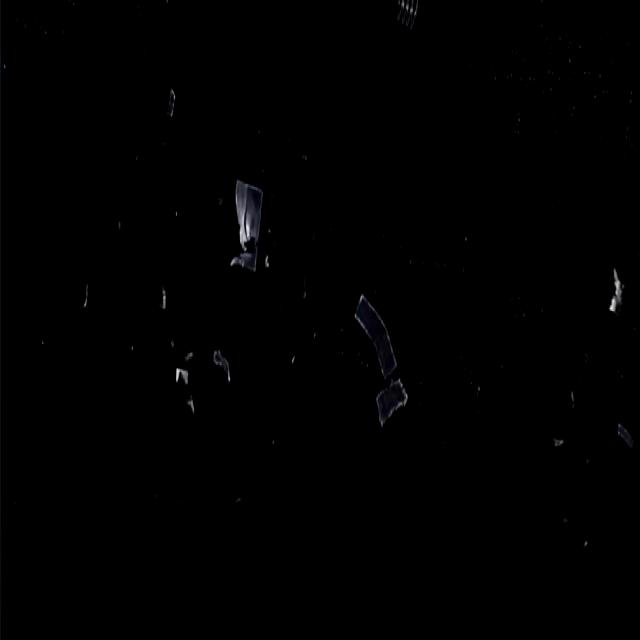large_debris: (350, 274, 414, 444), (223, 158, 279, 304), (595, 254, 631, 338), (208, 336, 242, 396), (387, 2, 423, 42), (161, 84, 183, 138)
